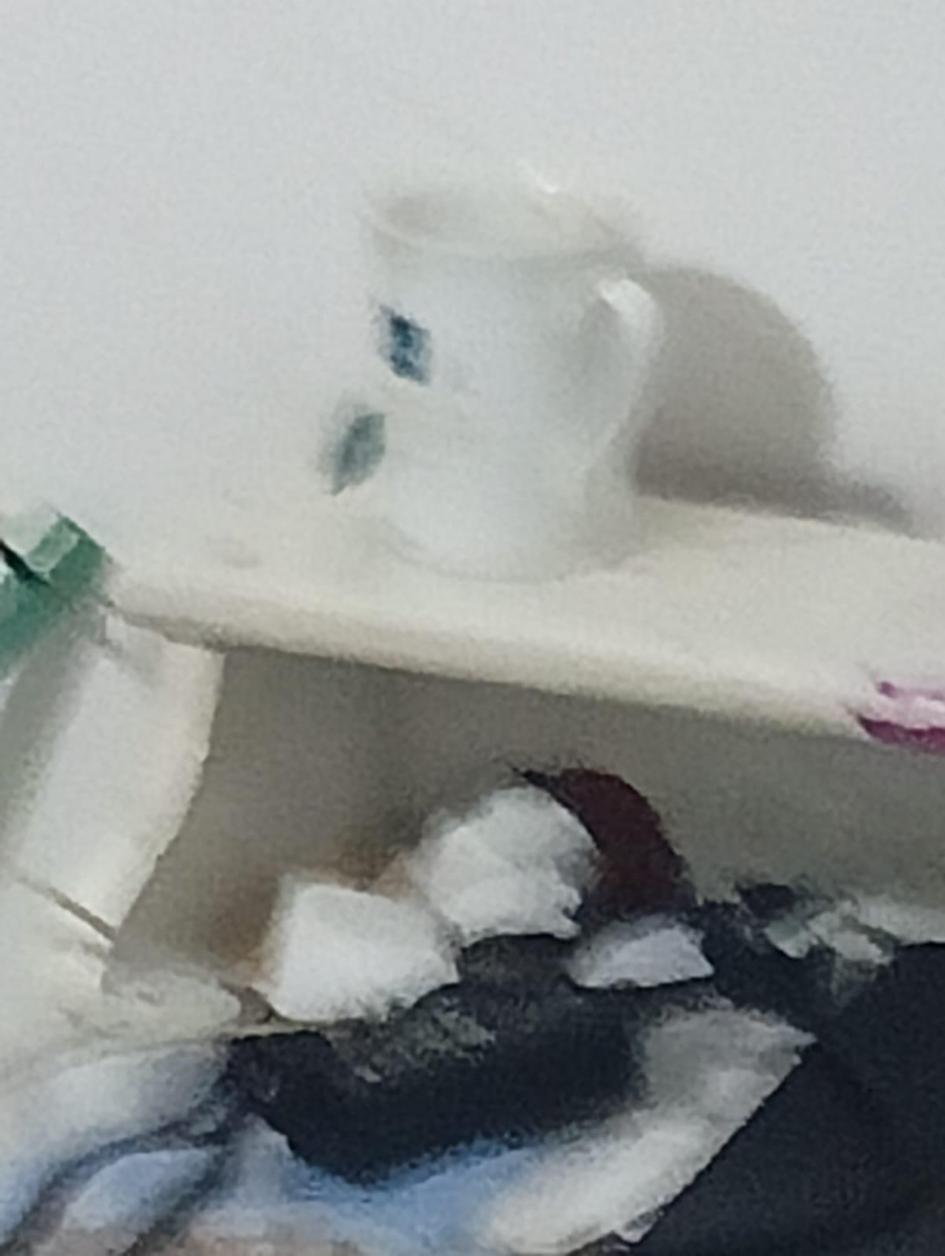cup: (319, 183, 665, 579)
